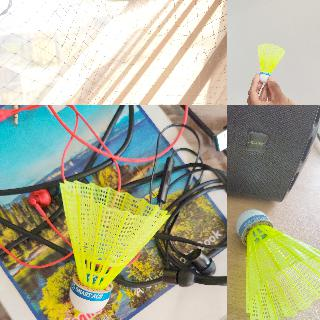shuttlecock: (58, 180, 172, 314), (236, 207, 319, 319), (257, 43, 285, 83)
